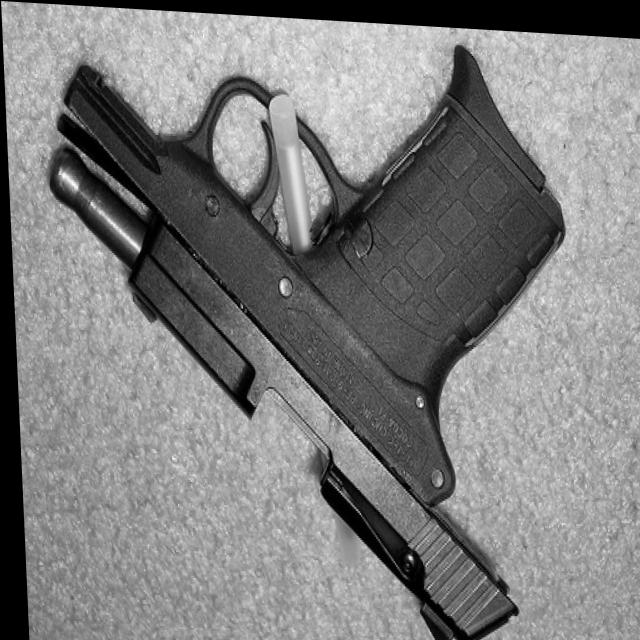handgun: (42, 32, 593, 640)
